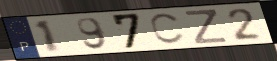1: (34, 18, 62, 55)
2: (226, 7, 264, 42)
7: (109, 12, 144, 51)
9: (76, 17, 110, 51)
C: (148, 12, 187, 46)
Z: (183, 8, 230, 46)
